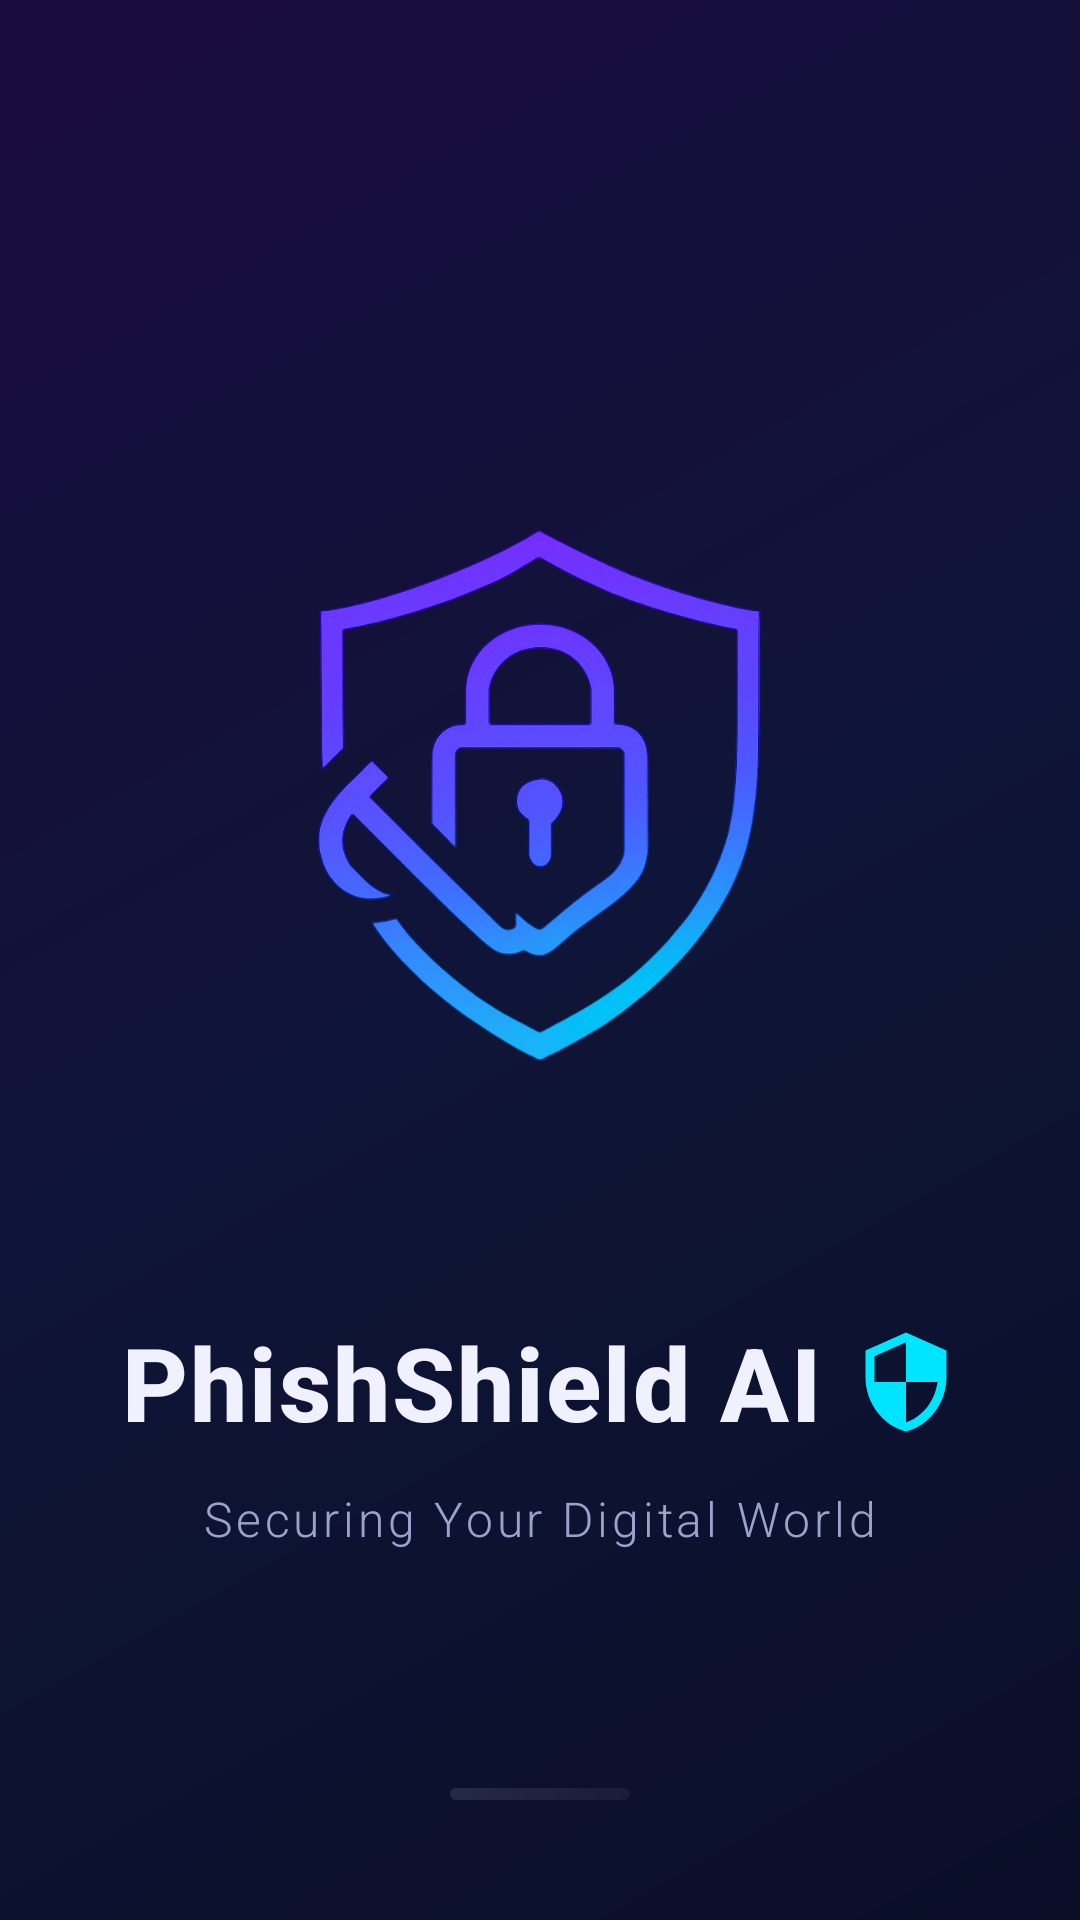

Icons on this 1080*1920 Android screen, each with its box as (x1, y1, x2, y2):
Security Icon: (865, 1332, 947, 1432)
